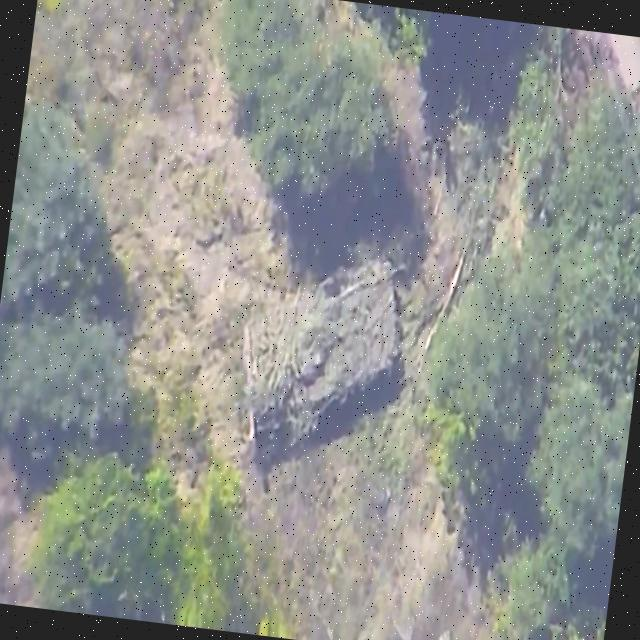AIFV: (230, 241, 413, 471)
